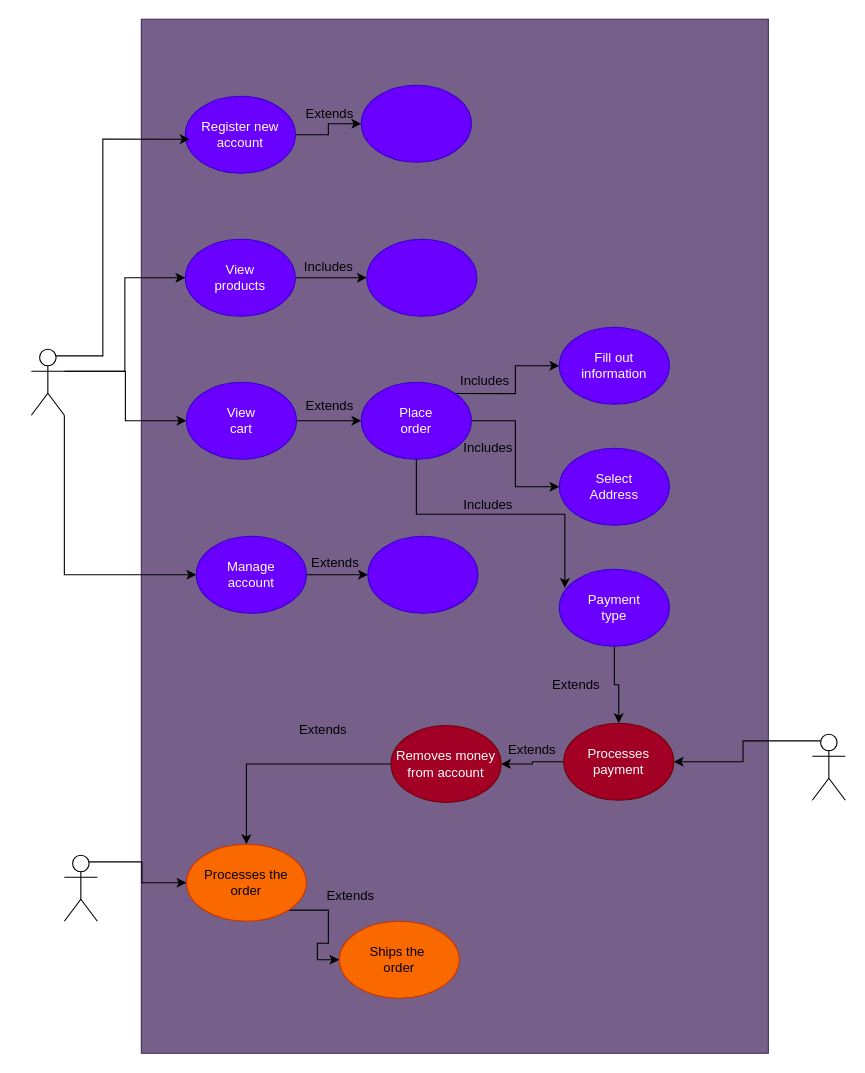
This 865x1073 diagram has some shape labels left out. The shapes that lost their labels are listed below. From the top down, each one's centre as x and y in pixels, then its label:
pixel 415 123: Login
pixel 421 277: Add to cart
pixel 47 381: Customer
pixel 422 574: View order history
pixel 828 766: Bank
pixel 80 887: Store
